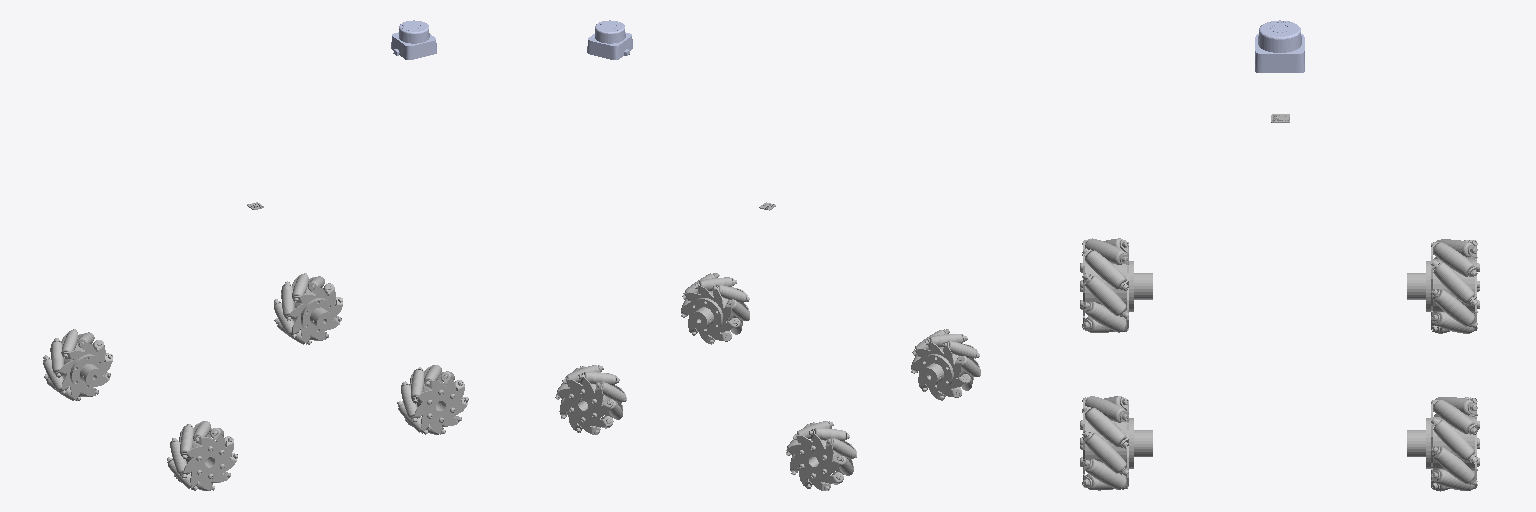
robot.urdf — view_robot_model:
<?xml version="1.0" encoding="utf-8"?>

<robot
  name="view_robot_model">
  <link
    name="base_footprint">
    <inertial>
      <origin
        xyz="-0.00192512550717041 -0.000689018981572781 0.180449455502325"
        rpy="0 0 0" />
      <mass
        value="15.3937526903884" />
      <inertia
        ixx="0.0750822670734706"
        ixy="-1.74008710174754E-05"
        ixz="0.000685474144944489"
        iyy="0.0613170241831307"
        iyz="6.25533060124774E-08"
        izz="0.0914512222280071" />
    </inertial>
    <visual>
      <origin
        xyz="0 0 0"
        rpy="0 0 0" />
      <geometry>
        <mesh
          filename="package://view_robot_model/meshes/base_footprint.STL" />
      </geometry>
      <material
        name="">
        <color
          rgba="0.752941176470588 0.752941176470588 0.752941176470588 1" />
      </material>
    </visual>
    <collision>
      <origin
        xyz="0 0 0"
        rpy="0 0 0" />
      <geometry>
        <mesh
          filename="package://view_robot_model/meshes/base_footprint.STL" />
      </geometry>
    </collision>
  </link>
  <link
    name="base_link">
    <inertial>
      <origin
        xyz="-0.00410075201158157 -0.000757897633767796 0.142190908416036"
        rpy="0 0 0" />
      <mass
        value="14.1404214939912" />
      <inertia
        ixx="0.0747083475505852"
        ixy="-1.74006588509029E-05"
        ixz="0.00068548387624605"
        iyy="0.0608806077812559"
        iyz="6.21935967142056E-08"
        izz="0.0910694710737573" />
    </inertial>
    <visual>
      <origin
        xyz="0 0 0"
        rpy="0 0 0" />
      <geometry>
        <mesh
          filename="package://view_robot_model/meshes/base_link.STL" />
      </geometry>
      <material
        name="">
        <color
          rgba="0.796078431372549 0.823529411764706 0.937254901960784 1" />
      </material>
    </visual>
    <collision>
      <origin
        xyz="0 0 0"
        rpy="0 0 0" />
      <geometry>
        <mesh
          filename="package://view_robot_model/meshes/base_link.STL" />
      </geometry>
    </collision>
  </link>
  <joint
    name="base_link_jt"
    type="fixed">
    <origin
      xyz="0 0 0.0465"
      rpy="0 0 0" />
    <parent
      link="base_footprint" />
    <child
      link="base_link" />
    <axis
      xyz="0 0 0" />
  </joint>
  <link
    name="laser">
    <inertial>
      <origin
        xyz="0.000115099330076085 -3.53742851760819E-06 -0.0130182896779998"
        rpy="0 0 0" />
      <mass
        value="0.10046205077288" />
      <inertia
        ixx="3.4201078614869E-05"
        ixy="-2.1320577894134E-10"
        ixz="9.73147116599212E-09"
        iyy="3.41937214679315E-05"
        iyz="-3.62911520310395E-10"
        izz="4.21147068405955E-05" />
    </inertial>
    <visual>
      <origin
        xyz="0 0 0"
        rpy="0 0 0" />
      <geometry>
        <mesh
          filename="package://view_robot_model/meshes/laser.STL" />
      </geometry>
      <material
        name="">
        <color
          rgba="0.792156862745098 0.819607843137255 0.933333333333333 1" />
      </material>
    </visual>
    <collision>
      <origin
        xyz="0 0 0"
        rpy="0 0 0" />
      <geometry>
        <mesh
          filename="package://view_robot_model/meshes/laser.STL" />
      </geometry>
    </collision>
  </link>
  <joint
    name="laser_jt"
    type="fixed">
    <origin
      xyz="0.28225 8.78067717803022E-05 0.529034046554903"
      rpy="0 0 -3.14159265358979" />
    <parent
      link="base_link" />
    <child
      link="laser" />
    <axis
      xyz="0 0 0" />
  </joint>
  <link
    name="front_left">
    <inertial>
      <origin
        xyz="6.59720139956077E-06 -0.00302823831675181 -6.00978607157021E-10"
        rpy="0 0 0" />
      <mass
        value="0.288217281634097" />
      <inertia
        ixx="8.49296106401835E-05"
        ixy="1.43015511484317E-08"
        ixz="-1.1339718810965E-12"
        iyy="0.000100555669784985"
        iyz="-7.27729464552934E-13"
        izz="8.49091110430561E-05" />
    </inertial>
    <visual>
      <origin
        xyz="0 0 0"
        rpy="0 0 0" />
      <geometry>
        <mesh
          filename="package://view_robot_model/meshes/front_left.STL" />
      </geometry>
      <material
        name="">
        <color
          rgba="0.752941176470588 0.752941176470588 0.752941176470588 1" />
      </material>
    </visual>
    <collision>
      <origin
        xyz="0 0 0"
        rpy="0 0 0" />
      <geometry>
        <mesh
          filename="package://view_robot_model/meshes/front_left.STL" />
      </geometry>
    </collision>
  </link>
  <joint
    name="front_left_jt"
    type="continuous">
    <origin
      xyz="0.204999999999999 0.191587806771779 -0.000429006004963407"
      rpy="0 0 0" />
    <parent
      link="base_link" />
    <child
      link="front_left" />
    <axis
      xyz="0 -1 0" />
  </joint>
  <link
    name="front_right">
    <inertial>
      <origin
        xyz="6.59694910595809E-06 -0.00302823952678875 -6.47261064190552E-10"
        rpy="0 0 0" />
      <mass
        value="0.288217290342464" />
      <inertia
        ixx="8.49296112927797E-05"
        ixy="1.43009415717104E-08"
        ixz="-1.26114408630013E-12"
        iyy="0.000100555670474318"
        iyz="-8.40453521264228E-13"
        izz="8.49091123769656E-05" />
    </inertial>
    <visual>
      <origin
        xyz="0 0 0"
        rpy="0 0 0" />
      <geometry>
        <mesh
          filename="package://view_robot_model/meshes/front_right.STL" />
      </geometry>
      <material
        name="">
        <color
          rgba="0.752941176470588 0.752941176470588 0.752941176470588 1" />
      </material>
    </visual>
    <collision>
      <origin
        xyz="0 0 0"
        rpy="0 0 0" />
      <geometry>
        <mesh
          filename="package://view_robot_model/meshes/front_right.STL" />
      </geometry>
    </collision>
  </link>
  <joint
    name="front_right_jt"
    type="continuous">
    <origin
      xyz="0.205000000000001 -0.191412193228221 -0.000429006004963435"
      rpy="3.14159265358979 0 0" />
    <parent
      link="base_link" />
    <child
      link="front_right" />
    <axis
      xyz="0 -1 0" />
  </joint>
  <link
    name="back_left">
    <inertial>
      <origin
        xyz="6.59713988804267E-06 -0.00302823866144852 -6.18176579370022E-10"
        rpy="0 0 0" />
      <mass
        value="0.288217283906179" />
      <inertia
        ixx="8.4929610920617E-05"
        ixy="1.43013415646674E-08"
        ixz="-1.16384806516502E-12"
        iyy="0.000100555669864889"
        iyz="-7.48245532259144E-13"
        izz="8.49091115575326E-05" />
    </inertial>
    <visual>
      <origin
        xyz="0 0 0"
        rpy="0 0 0" />
      <geometry>
        <mesh
          filename="package://view_robot_model/meshes/back_left.STL" />
      </geometry>
      <material
        name="">
        <color
          rgba="0.752941176470588 0.752941176470588 0.752941176470588 1" />
      </material>
    </visual>
    <collision>
      <origin
        xyz="0 0 0"
        rpy="0 0 0" />
      <geometry>
        <mesh
          filename="package://view_robot_model/meshes/back_left.STL" />
      </geometry>
    </collision>
  </link>
  <joint
    name="back_left_jt"
    type="continuous">
    <origin
      xyz="-0.205000000000001 0.191587806771777 -0.000429006004961999"
      rpy="0 0 0" />
    <parent
      link="base_link" />
    <child
      link="back_left" />
    <axis
      xyz="0 -1 0" />
  </joint>
  <link
    name="back_right">
    <inertial>
      <origin
        xyz="6.59698613911242E-06 -0.00302823948772889 -6.3496536500951E-10"
        rpy="0 0 0" />
      <mass
        value="0.288217289741628" />
      <inertia
        ixx="8.49296114166343E-05"
        ixy="1.43009119348606E-08"
        ixz="-1.20627920358455E-12"
        iyy="0.00010055567028263"
        iyz="-8.8579353528715E-13"
        izz="8.49091124316513E-05" />
    </inertial>
    <visual>
      <origin
        xyz="0 0 0"
        rpy="0 0 0" />
      <geometry>
        <mesh
          filename="package://view_robot_model/meshes/back_right.STL" />
      </geometry>
      <material
        name="">
        <color
          rgba="0.752941176470588 0.752941176470588 0.752941176470588 1" />
      </material>
    </visual>
    <collision>
      <origin
        xyz="0 0 0"
        rpy="0 0 0" />
      <geometry>
        <mesh
          filename="package://view_robot_model/meshes/back_right.STL" />
      </geometry>
    </collision>
  </link>
  <joint
    name="back_right_jt"
    type="continuous">
    <origin
      xyz="-0.204999999999999 -0.191412193228223 -0.000429006004961971"
      rpy="3.14159265358979 0 0" />
    <parent
      link="base_link" />
    <child
      link="back_right" />
    <axis
      xyz="0 -1 0" />
  </joint>
  <link
    name="imu_link">
    <inertial>
      <origin
        xyz="0.000845680649576901 0.00075545964761381 -0.00185425295461589"
        rpy="0 0 0" />
      <mass
        value="0.000674678214489439" />
      <inertia
        ixx="2.17569992333801E-08"
        ixy="-2.12091450133379E-12"
        ixz="-1.04699023147566E-13"
        iyy="1.84912152717305E-08"
        iyz="3.88608827335339E-13"
        izz="3.99591926332298E-08" />
    </inertial>
    <visual>
      <origin
        xyz="0 0 0"
        rpy="0 0 0" />
      <geometry>
        <mesh
          filename="package://view_robot_model/meshes/imu_link.STL" />
      </geometry>
      <material
        name="">
        <color
          rgba="0.752941176470588 0.752941176470588 0.752941176470588 1" />
      </material>
    </visual>
    <collision>
      <origin
        xyz="0 0 0"
        rpy="0 0 0" />
      <geometry>
        <mesh
          filename="package://view_robot_model/meshes/imu_link.STL" />
      </geometry>
    </collision>
  </link>
  <joint
    name="imu_link_jt"
    type="fixed">
    <origin
      xyz="0 0.000102250185358699 0.300850993995037"
      rpy="0 0 0" />
    <parent
      link="base_link" />
    <child
      link="imu_link" />
    <axis
      xyz="0 0 0" />
  </joint>
</robot>

--- What the picture shows (computed from the rendered views, not written in the file) ---
Views: 3 orthographic renders of the robot side by side, from view 1: azimuth 30°, elevation 25°; view 2: azimuth 150°, elevation 25°; view 3: azimuth 270°, elevation 25°.
Model view_robot_model with 8 links and 7 joints (4 continuous, 3 fixed), rooted at base_footprint, posed all joints at 0.
Links seen in each view (by area): view 1: back_left, front_left, front_right, back_right, laser; view 2: back_right, front_right, back_left, front_left, laser; view 3: back_right, back_left, front_right, front_left, laser.
Boxes of the visible links, <box> form: back_left: <box>43,329,112,400</box>; front_left: <box>274,273,342,344</box>; front_right: <box>397,365,468,434</box>; back_right: <box>167,421,237,490</box>; laser: <box>391,20,436,59</box>; back_right: <box>911,329,980,400</box>; front_right: <box>681,273,749,344</box>; back_left: <box>786,421,856,490</box>; front_left: <box>555,365,626,434</box>; laser: <box>587,20,632,59</box>; back_right: <box>1080,238,1152,332</box>; back_left: <box>1407,239,1479,333</box>; front_right: <box>1080,396,1152,490</box>; front_left: <box>1407,397,1479,491</box>; laser: <box>1255,20,1304,72</box>.
Size in the robot's own frame: 0.5671 by 0.441 by 0.5927 metres.
6 mesh visuals loaded from 8 distinct referenced files (6 binary STL); not drawn: 2 (reference not matched to a file when rendering).
